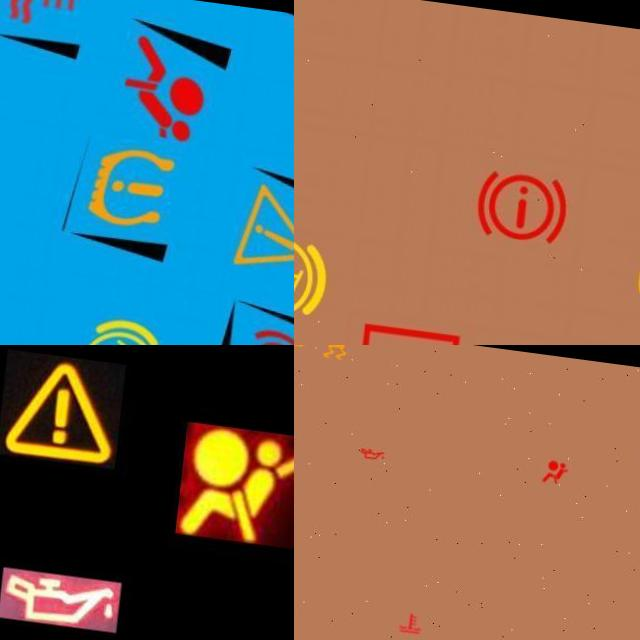Central Warning lamp: (4, 347, 131, 464)
